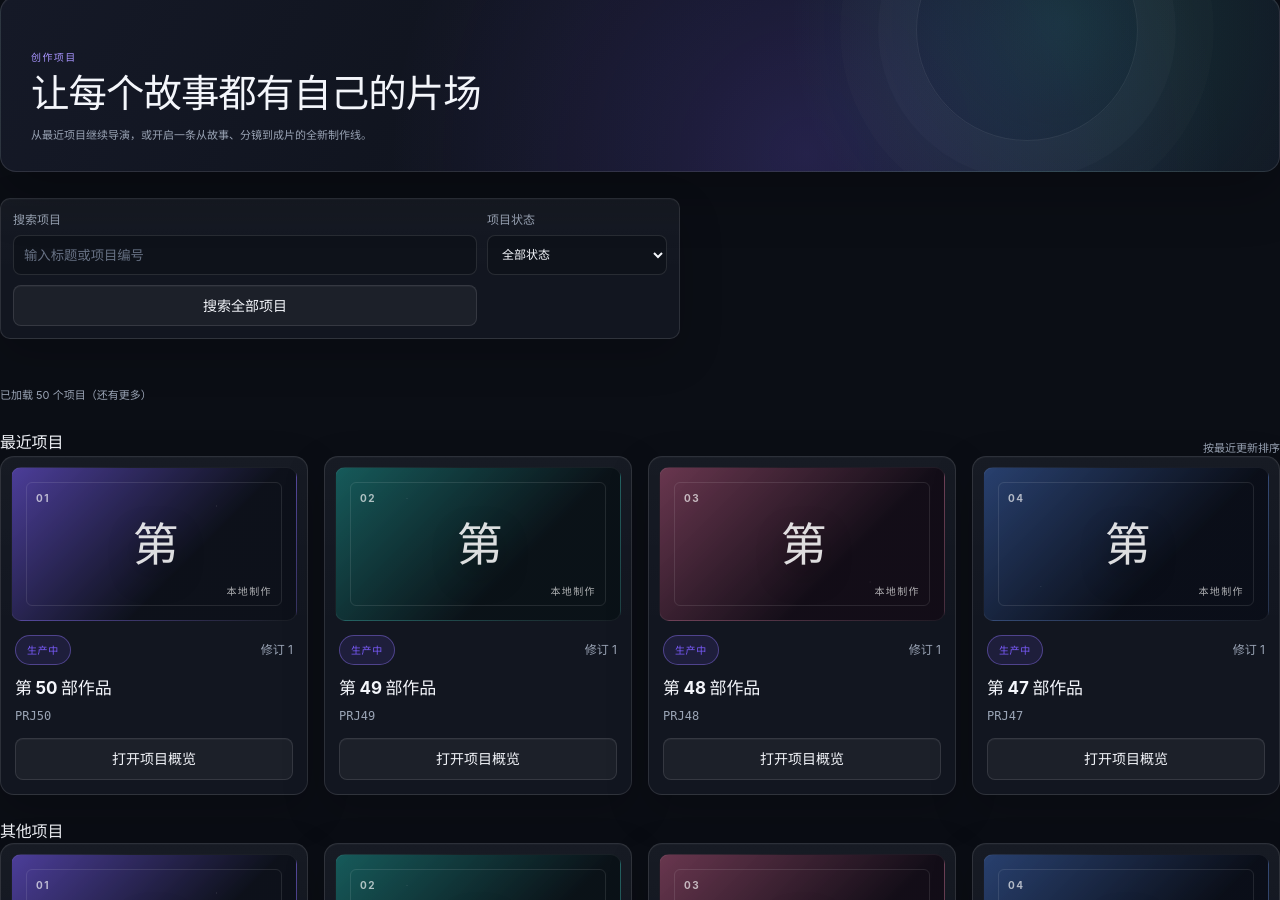
ProjectsPage recent projects › shows a clear-filter empty state that does not pretend the library is empty
Step 1. Type "不存在的项目" into the field labelled "搜索项目" → [245, 255], box 13,235 -> 477,275
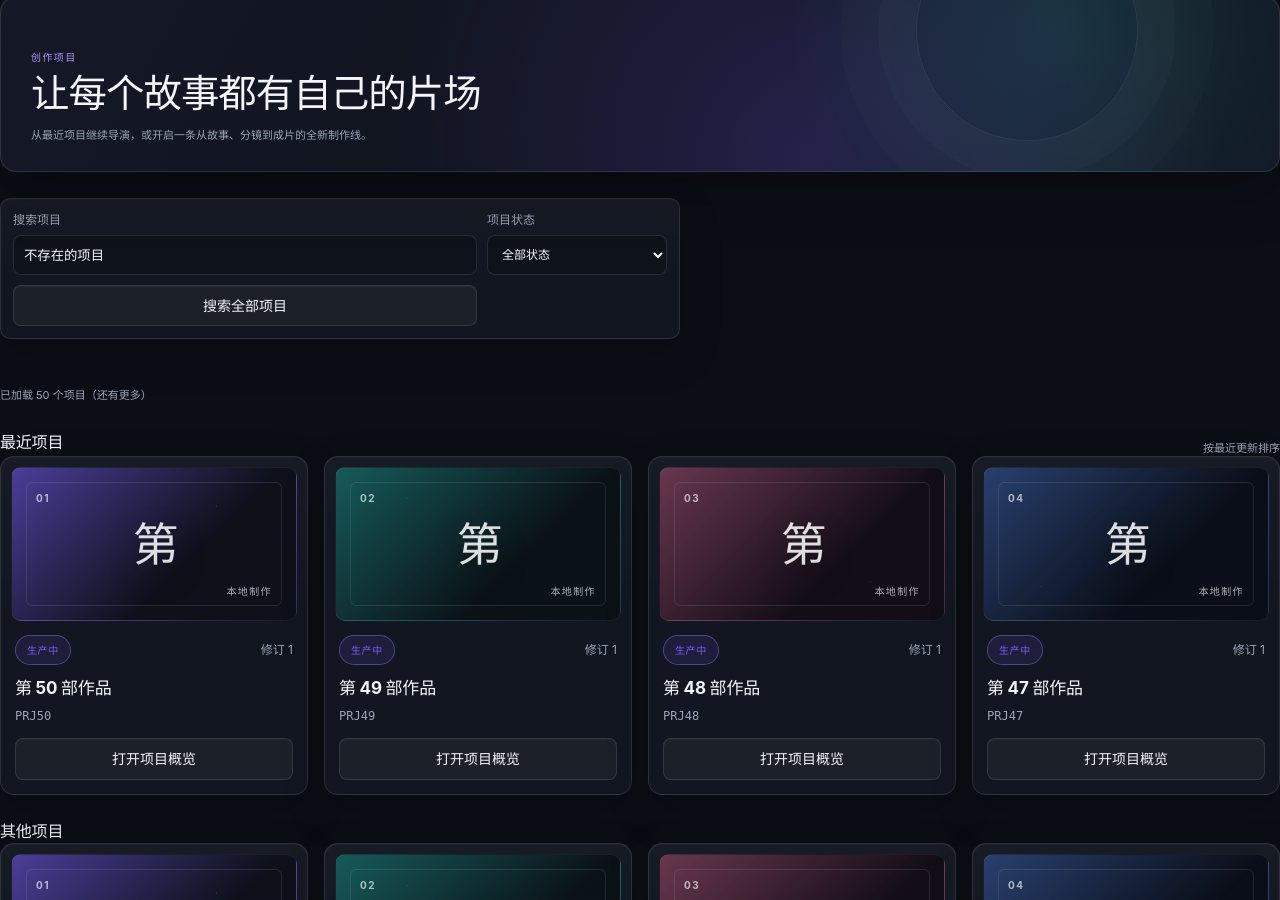
Step 2. Click the button "搜索全部项目" → [245, 305], box 13,285 -> 477,326
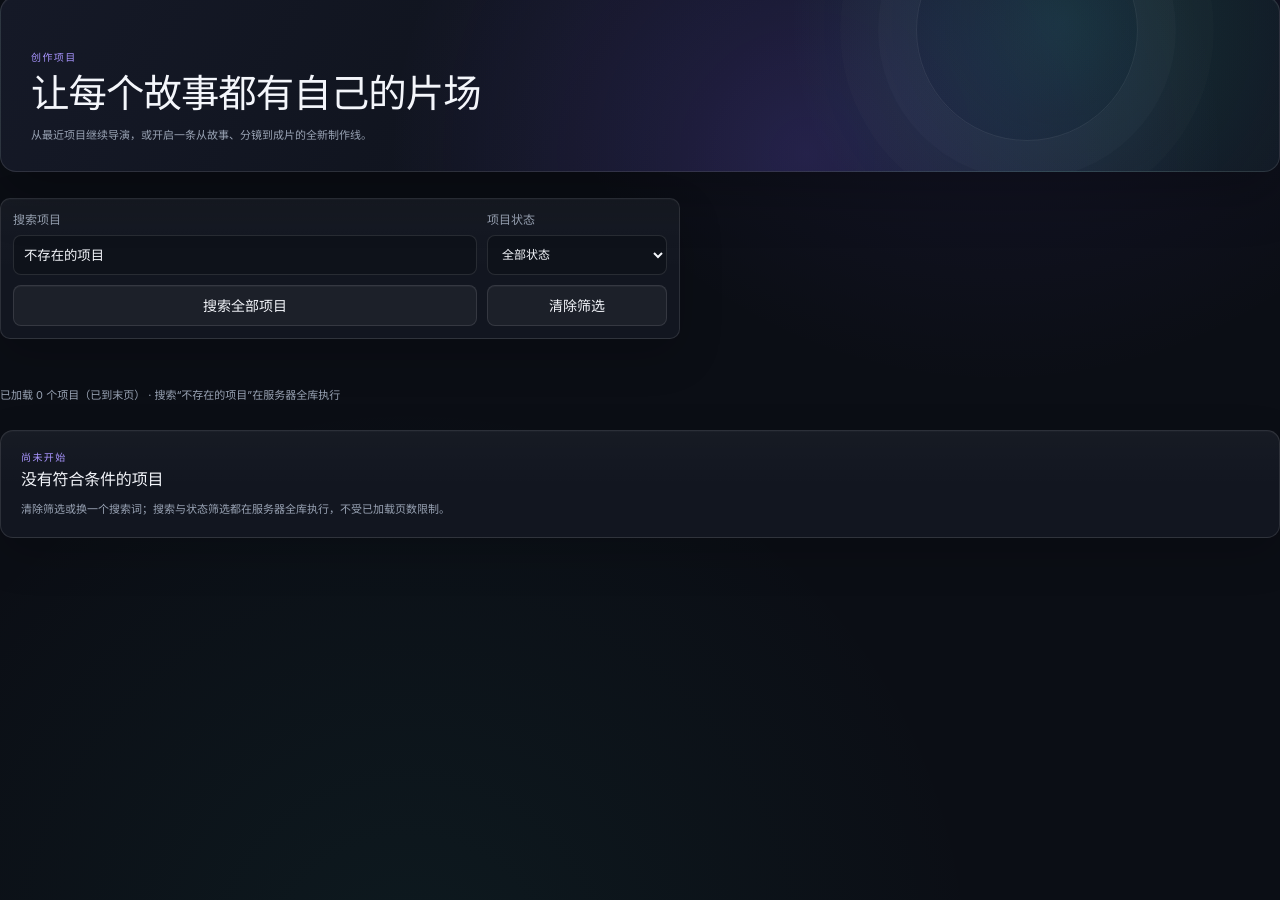
Check: the heading "没有符合条件的项目" is shown, box 21,469 -> 163,489
Check: the button "清除筛选" is shown
Step 3. Click the button "清除筛选" → [577, 305], box 487,285 -> 667,326
(page scrolled)
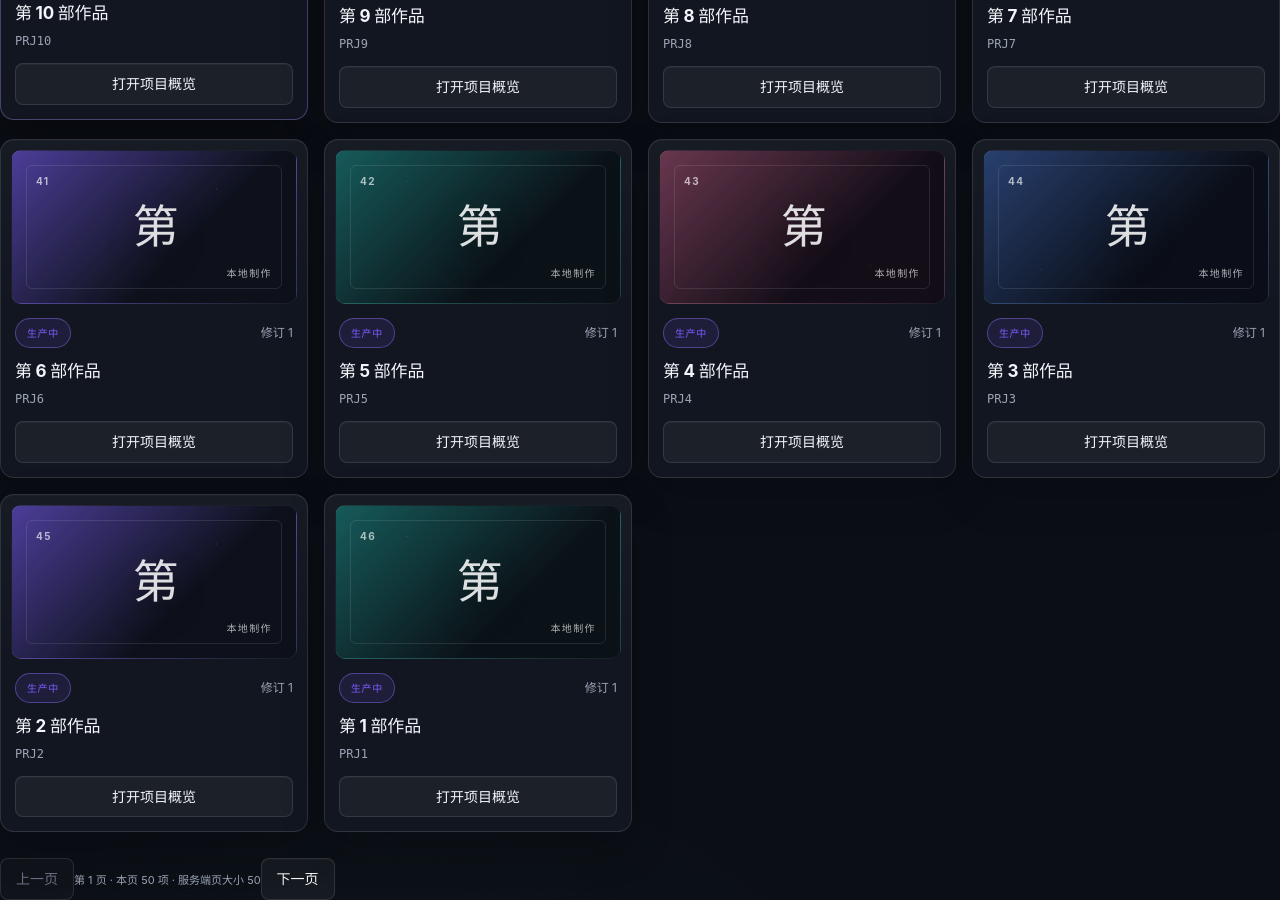
Check: the heading "第 1 部作品" is shown, box 339,716 -> 421,736
